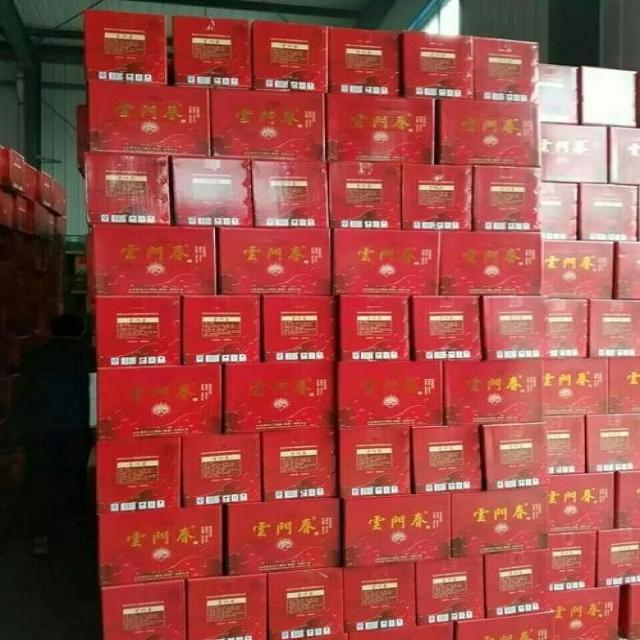box: (99, 506, 221, 586), (97, 365, 221, 441), (88, 81, 210, 156), (92, 223, 216, 296), (229, 498, 340, 576), (211, 88, 325, 161), (225, 362, 337, 434), (344, 492, 451, 567), (328, 92, 435, 165), (219, 228, 332, 296), (334, 228, 440, 296), (339, 359, 443, 428), (439, 99, 543, 166), (453, 486, 549, 558), (445, 359, 544, 425), (97, 437, 180, 515), (439, 232, 541, 295), (82, 9, 166, 84), (86, 151, 169, 225), (96, 296, 180, 367), (183, 433, 262, 508), (173, 13, 251, 87), (252, 20, 329, 92), (268, 567, 344, 639), (174, 156, 252, 226), (264, 429, 337, 503), (183, 296, 260, 365), (189, 574, 268, 640), (340, 425, 411, 498), (101, 580, 186, 640), (252, 159, 328, 226), (346, 561, 416, 632), (329, 160, 401, 229), (417, 555, 485, 628), (264, 295, 337, 363), (403, 30, 474, 99), (412, 425, 483, 494), (330, 26, 398, 95), (402, 164, 472, 230), (339, 295, 410, 360), (486, 548, 550, 619), (412, 296, 481, 361), (475, 36, 540, 103), (484, 424, 549, 489), (475, 166, 541, 230), (484, 296, 545, 361), (549, 472, 614, 533), (543, 242, 613, 298), (541, 124, 607, 182), (543, 358, 609, 415), (549, 586, 618, 640), (582, 65, 636, 127), (580, 183, 637, 241), (586, 414, 640, 473), (589, 299, 640, 358), (548, 532, 598, 590), (457, 611, 554, 640), (596, 527, 640, 586), (545, 299, 588, 358), (544, 415, 585, 474), (540, 63, 579, 124), (541, 183, 577, 240), (609, 358, 640, 413), (611, 128, 640, 184), (349, 625, 452, 640), (617, 471, 640, 528), (618, 242, 639, 299), (77, 105, 90, 167), (9, 148, 26, 192), (0, 186, 14, 228), (630, 584, 640, 639), (23, 163, 36, 200), (54, 179, 67, 215), (35, 201, 47, 239), (17, 196, 29, 233), (41, 171, 52, 206), (0, 146, 9, 186), (47, 213, 55, 240), (56, 217, 67, 235)
